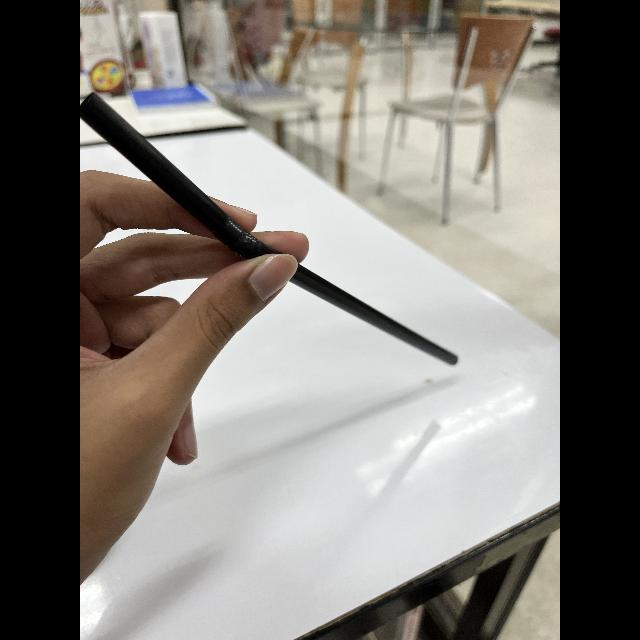straw: (80, 94, 466, 374)
